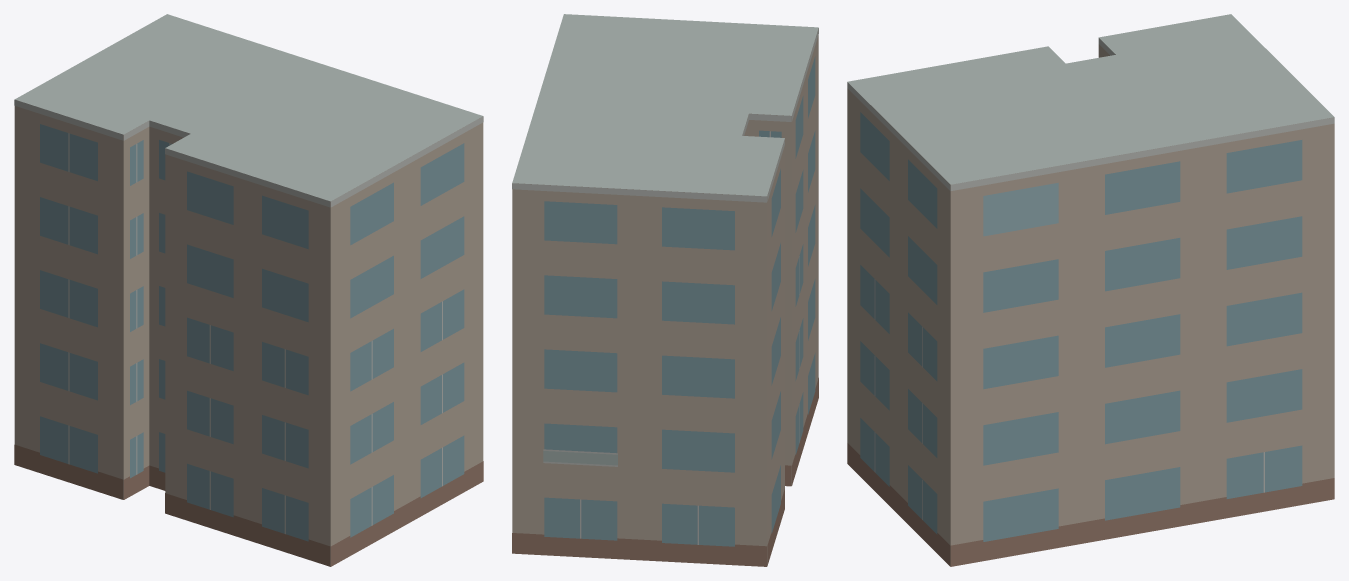
Rendered from survey-upis-32846646.glb.
The picture shows the model from 3 angles, left to right: view 1: azimuth 30°, elevation 25°; view 2: azimuth 150°, elevation 25°; view 3: azimuth 270°, elevation 25°; orthographic projection. The views are drawn at different scales.
Visible parts, largest first — view 1: survey-upis-32846646.tmp; view 2: survey-upis-32846646.tmp; view 3: survey-upis-32846646.tmp.
Part boxes in pixels (x1,y1,x2,y2): survey-upis-32846646.tmp: [14, 14, 483, 566]; survey-upis-32846646.tmp: [512, 14, 818, 566]; survey-upis-32846646.tmp: [847, 14, 1334, 566].
Size of the model in its own units: 13.91 by 14.5 by 16.77.
